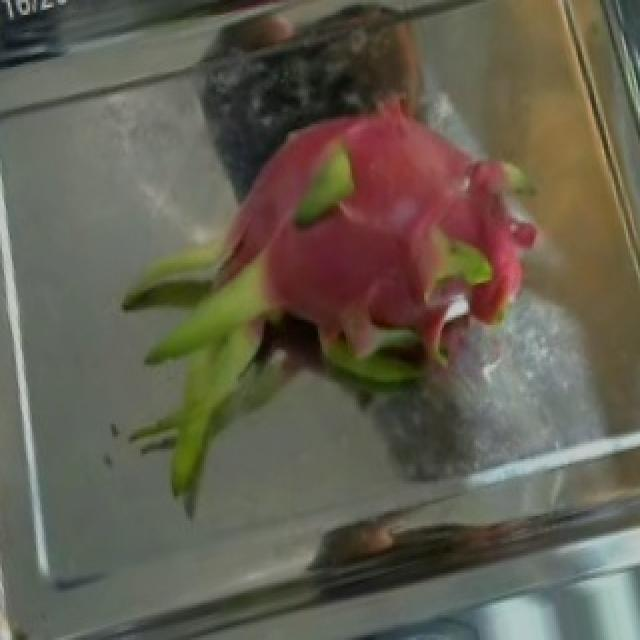fruit: (132, 42, 568, 501)
